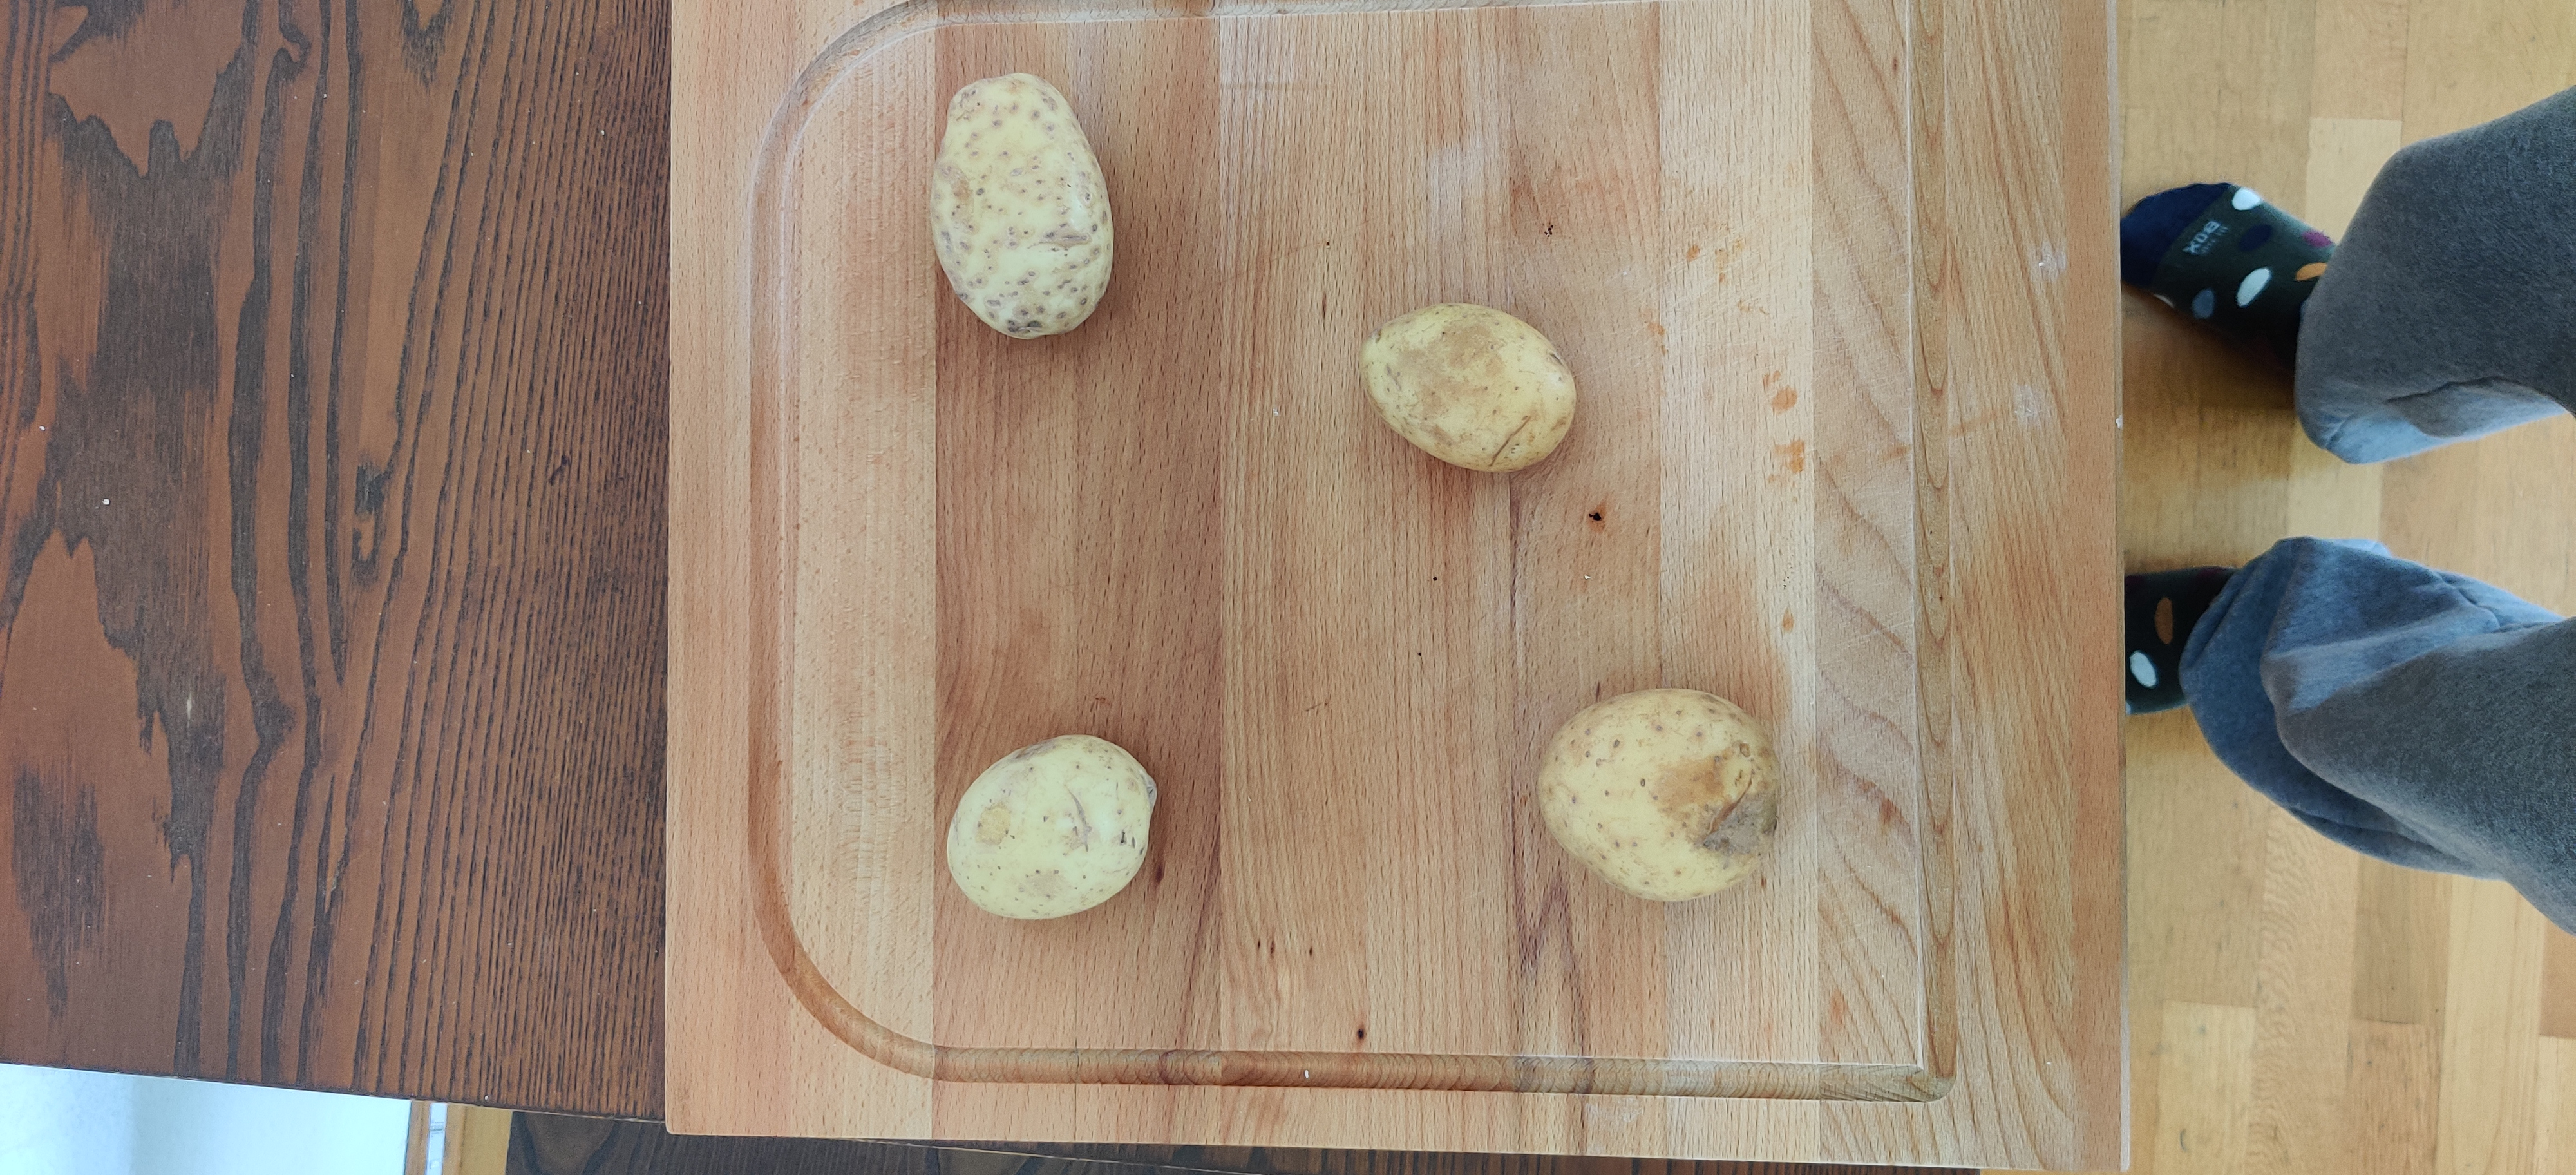Kartoffel: (1534, 687, 1784, 901), (933, 72, 1115, 340), (946, 735, 1158, 919), (1362, 302, 1576, 472)
